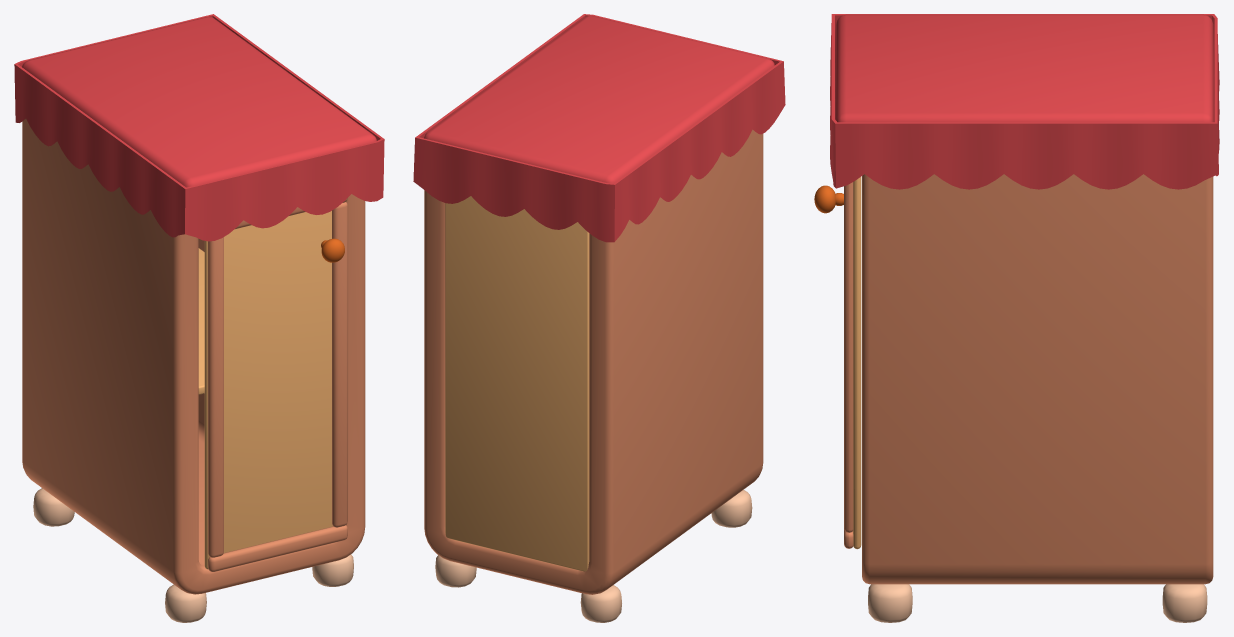
The model's file is armario_cozinha_base_1porta_campestre.glb.
3 renders of one model, left to right at view 1: azimuth 30°, elevation 25°; view 2: azimuth 150°, elevation 25°; view 3: azimuth 270°, elevation 25°, orthographic. The views are drawn at different scales.
Parts seen in each view (by area): view 1: armario_cozinha_base_1porta_campestre, porta_1; view 2: armario_cozinha_base_1porta_campestre; view 3: armario_cozinha_base_1porta_campestre, porta_1.
Part boxes in pixels (x1,y1,x2,y2): armario_cozinha_base_1porta_campestre: [14, 14, 384, 622]; porta_1: [204, 198, 347, 571]; armario_cozinha_base_1porta_campestre: [413, 14, 785, 622]; armario_cozinha_base_1porta_campestre: [830, 14, 1219, 622]; porta_1: [814, 177, 861, 549].
Size of the model in its own units: 0.418 by 0.9 by 0.6436.
Materials: 1 (1 with a texture image).
